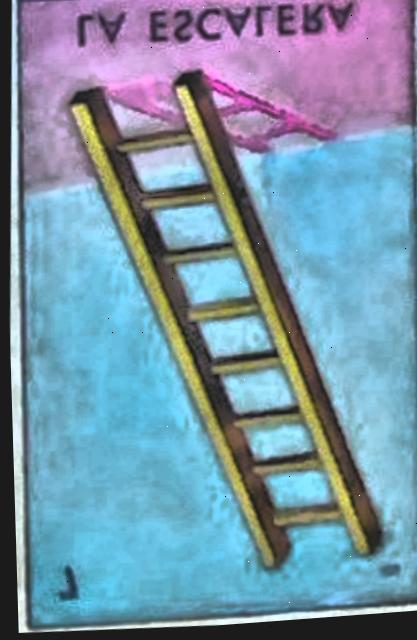La Escalera: (23, 0, 417, 630)
